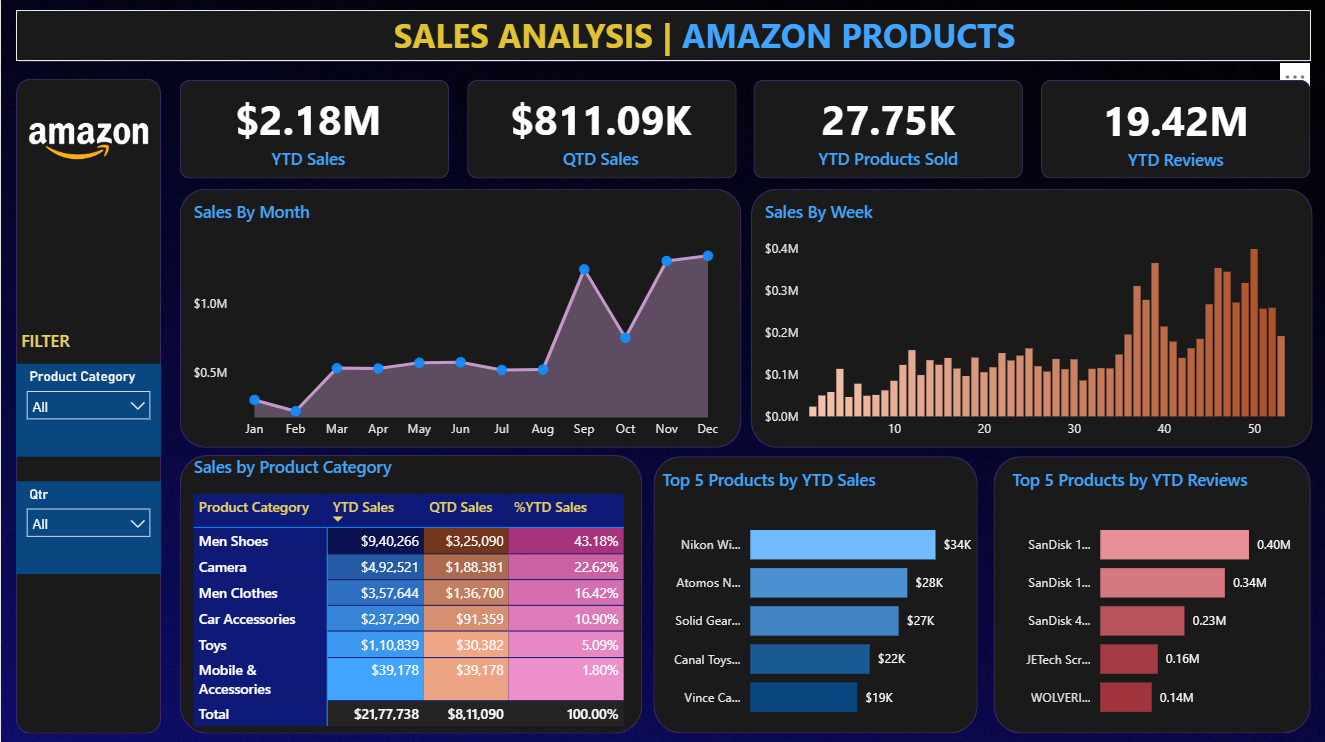

Layout of this report page (visuals, bound fields, positions):
{"tool":"powerbi","page":{"name":"Page 1","canvas":[1280,720],"ordinal":0},"visuals":[{"type":"shape","box":[14.5,9.7,1250,50],"z":0},{"type":"textbox","box":[374,7.2,624.9,55.5],"z":1},{"type":"shape","box":[14.5,76,139.9,632.2],"z":2},{"type":"shape","box":[172.5,77.2,260,95],"z":3,"group":"g1"},{"type":"card","fields":{"Values":["Amazon_Data.YTD Sales"]},"box":[172.5,77.2,248.5,95.3],"z":4,"group":"g1"},{"type":"shape","box":[449.6,77.2,260,95],"z":5,"group":"g1"},{"type":"shape","box":[726.7,77.2,260,95],"z":6,"group":"g1"},{"type":"shape","box":[1003.7,77.2,260,95],"z":7,"group":"g1"},{"type":"card","fields":{"Values":["Amazon_Data.QTD Sales"]},"box":[454.8,77.2,248.5,95.3],"z":8,"group":"g1"},{"type":"card","fields":{"Values":["Amazon_Data.YTD Products Sold"]},"box":[732.3,77.2,248.5,95.3],"z":9,"group":"g1"},{"type":"card","fields":{"Values":["Amazon_Data.YTD Reviews"]},"box":[1009.8,78.4,248.5,95.3],"z":10,"group":"g1"},{"type":"group","id":"g1","title":"Group 1","box":[172.5,77.2,1091.8,96.5],"z":11},{"type":"shape","box":[172.5,182.2,542,250],"z":12},{"type":"areaChart","title":"Sales By Month","fields":{"Category":["Date Table.Month Name"],"Y":["Sum(Amazon_Data.Price(Dollar))"]},"box":[181,193,522.4,238.9],"z":13},{"type":"shape","box":[723.9,182.2,542,250],"z":14},{"type":"columnChart","title":"Sales By Week ","fields":{"Category":["Date Table.Week"],"Y":["Sum(Amazon_Data.Price(Dollar))"]},"box":[732.3,193,533.2,238.9],"z":15},{"type":"shape","box":[172.5,439.1,446.4,269],"z":16},{"type":"pivotTable","title":"Sales by Product Category","fields":{"Rows":["Amazon_Data.Product Category"],"Values":["Amazon_Data.YTD Sales1","Amazon_Data.QTD Sales","Amazon_Data.YTD Sales"]},"box":[181.1,439.1,437.7,269],"z":17},{"type":"shape","box":[629.8,440.5,312.9,267.6],"z":18},{"type":"shape","box":[957.8,440.5,306,267.6],"z":19},{"type":"barChart","title":"Top 5 Products by YTD Sales ","fields":{"Category":["Amazon_Data.Product Description"],"Y":["Amazon_Data.YTD Sales"]},"box":[634,451.5,308.7,256.6],"z":20},{"type":"barChart","title":"Top 5 Products by YTD Reviews","fields":{"Category":["Amazon_Data.Product Description"],"Y":["Amazon_Data.YTD Reviews"]},"box":[971.2,451.2,308.7,256.6],"z":21},{"type":"slicer","fields":{"Values":["Amazon_Data.Product Category"]},"box":[14.5,351.1,139.9,89.3],"z":22},{"type":"slicer","fields":{"Values":["Date Table.Qtr"]},"box":[14.5,464.5,139.9,89.3],"z":23},{"type":"image","box":[22.9,98.9,123.1,74.8],"z":24},{"type":"textbox","box":[14.5,312.5,62.7,36.2],"z":25}]}

Visuals, with their boxes in screenshot pixels (x1, y1, x2, y2), scaled from the page's 1280x720 canvas onto the 1325x742 screenshot:
shape: l=15, t=10, r=1309, b=62
textbox: l=387, t=7, r=1034, b=65
shape: l=15, t=78, r=160, b=730
shape: l=179, t=80, r=448, b=177
card - Amazon_Data.YTD Sales: l=179, t=80, r=436, b=178
shape: l=465, t=80, r=735, b=177
shape: l=752, t=80, r=1021, b=177
shape: l=1039, t=80, r=1308, b=177
card - Amazon_Data.QTD Sales: l=471, t=80, r=728, b=178
card - Amazon_Data.YTD Products Sold: l=758, t=80, r=1015, b=178
card - Amazon_Data.YTD Reviews: l=1045, t=81, r=1303, b=179
"Group 1" group: l=179, t=80, r=1309, b=179
shape: l=179, t=188, r=740, b=445
"Sales By Month" areaChart: l=187, t=199, r=728, b=445
shape: l=749, t=188, r=1310, b=445
"Sales By Week " columnChart: l=758, t=199, r=1310, b=445
shape: l=179, t=453, r=641, b=730
"Sales by Product Category" pivotTable: l=187, t=453, r=641, b=730
shape: l=652, t=454, r=976, b=730
shape: l=991, t=454, r=1308, b=730
"Top 5 Products by YTD Sales " barChart: l=656, t=465, r=976, b=730
"Top 5 Products by YTD Reviews" barChart: l=1005, t=465, r=1324, b=729
slicer - Amazon_Data.Product Category: l=15, t=362, r=160, b=454
slicer - Date Table.Qtr: l=15, t=479, r=160, b=571
image: l=24, t=102, r=151, b=179
textbox: l=15, t=322, r=80, b=359
